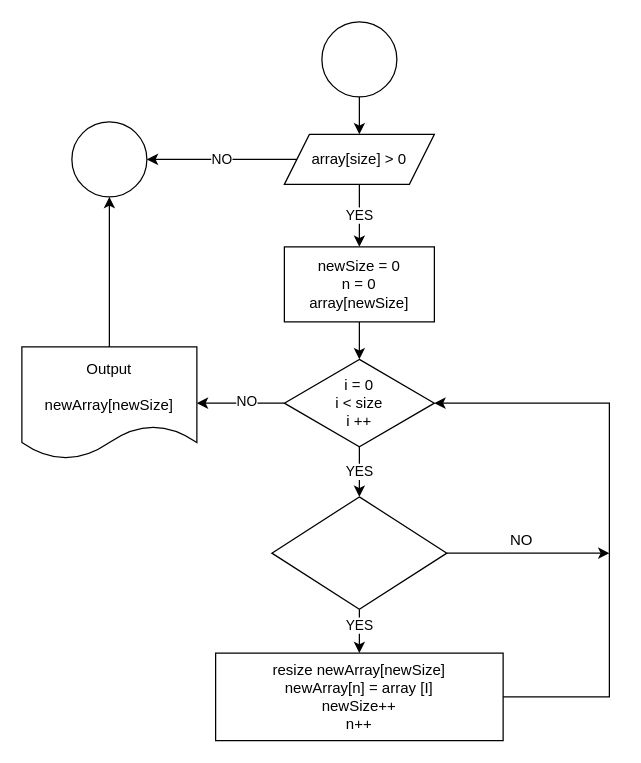
This 641x763 diagram has some shape labels left out. The centre of each missing label's shape, as x and y in pixels:
"array[i].Length <= 3" goes at pixel 359 552.
"End" goes at pixel 109 159.
"Start" goes at pixel 359 59.
